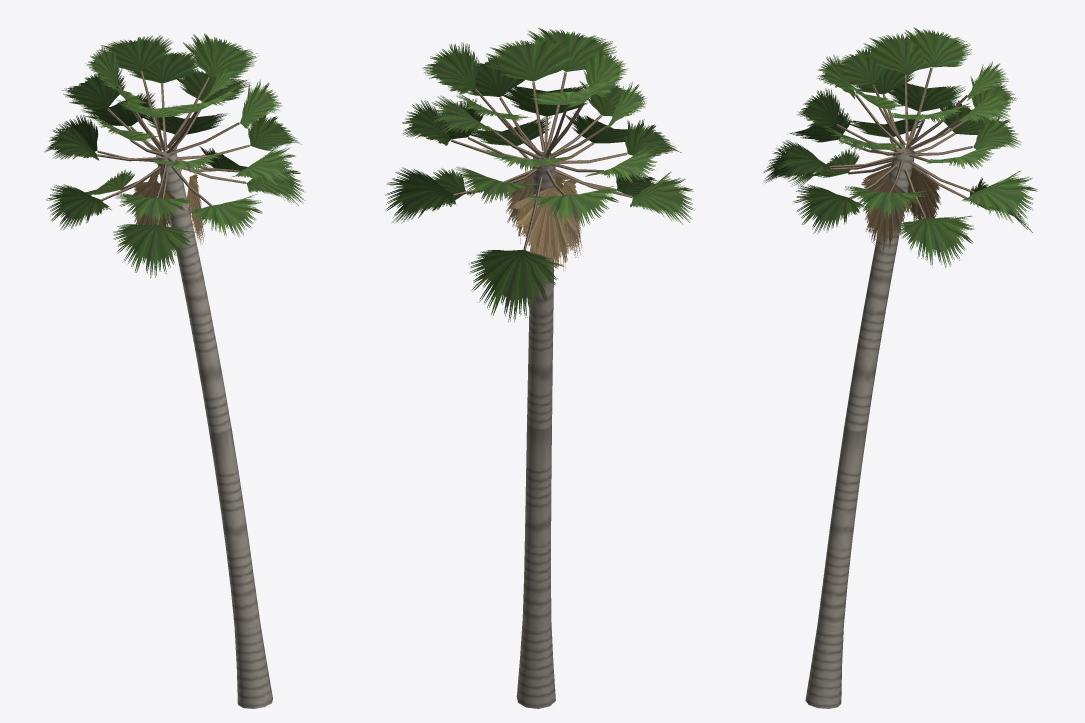
Rendered from veg_fan_palm_b.fbx.
3 views of the same model, side by side, from view 1: azimuth 30°, elevation 25°; view 2: azimuth 150°, elevation 25°; view 3: azimuth 270°, elevation 25° (orthographic). The views are drawn at different scales.
Visible parts, largest first — view 1: veg_fan_palm_b_LOD0; view 2: veg_fan_palm_b_LOD0; view 3: veg_fan_palm_b_LOD0.
Part boxes in pixels (x1,y1,x2,y2): veg_fan_palm_b_LOD0: [44, 33, 304, 708]; veg_fan_palm_b_LOD0: [385, 27, 695, 708]; veg_fan_palm_b_LOD0: [763, 27, 1037, 708].
Size of what is drawn, in the model's own units: 5.43 by 12.27 by 5.69.
2 materials, 2 textured.
